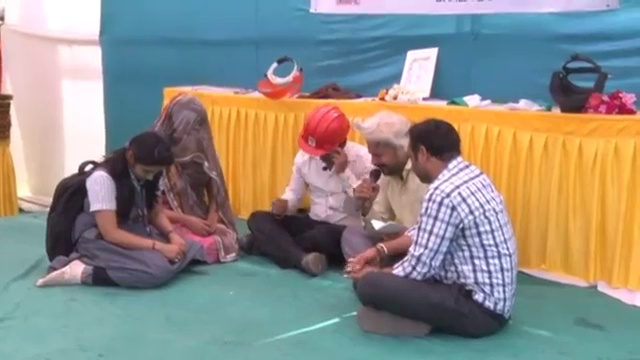helmet: (297, 104, 351, 158)
helmet_off: (406, 117, 465, 189), (360, 112, 414, 190), (156, 94, 212, 157), (122, 134, 174, 184)
helmet_on: (298, 104, 356, 174)
person: (355, 114, 521, 343), (38, 127, 198, 293), (242, 97, 376, 273), (143, 92, 241, 263), (343, 113, 426, 264)
